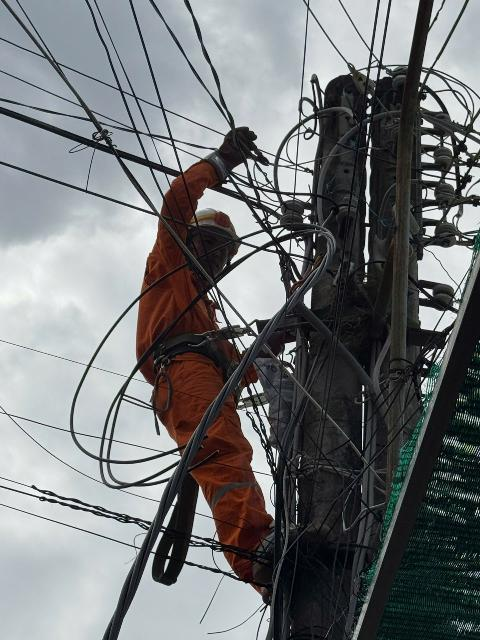gloves: (197, 117, 275, 186)
harness: (138, 314, 257, 380)
helmet: (182, 195, 244, 250)
shoes: (240, 516, 333, 579)
